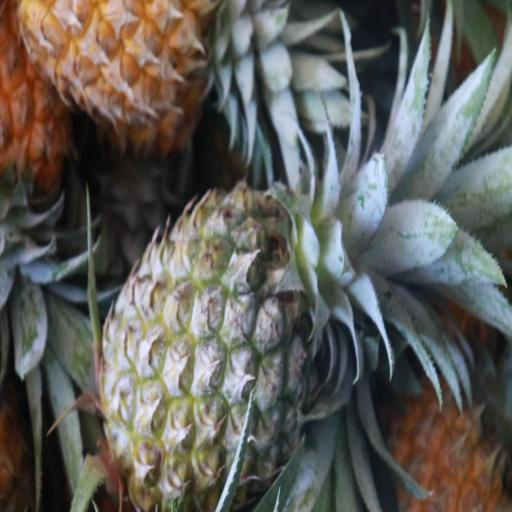------------------------------: (103, 186, 316, 512)
